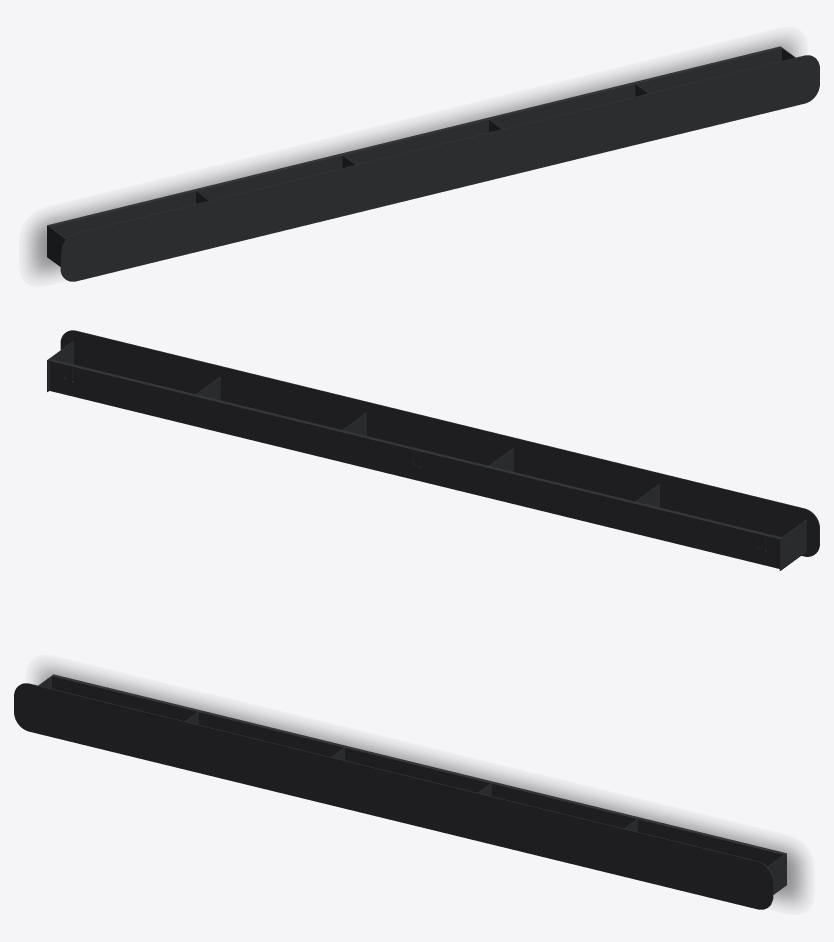
Rendered from radius-mono.062aa88414.ar.glb.
The picture shows the model from 3 angles, top to bottom: view 1: azimuth 30°, elevation 25°; view 2: azimuth 150°, elevation 25°; view 3: azimuth 330°, elevation 25°; orthographic projection.
Parts seen in each view (by area): view 1: NAUO1, object 2; view 2: NAUO1; view 3: NAUO1, object 2.
Part boxes in pixels (x1,y1,x2,y2): NAUO1: (47,46,819,281); object 2: (29,38,798,275); NAUO1: (47,330,819,570); NAUO1: (14,674,786,909); object 2: (35,666,804,903).
Bounding box in the file's own units: 1.58 × 0.17 × 0.093.
Materials: 2 (1 with a texture image).
